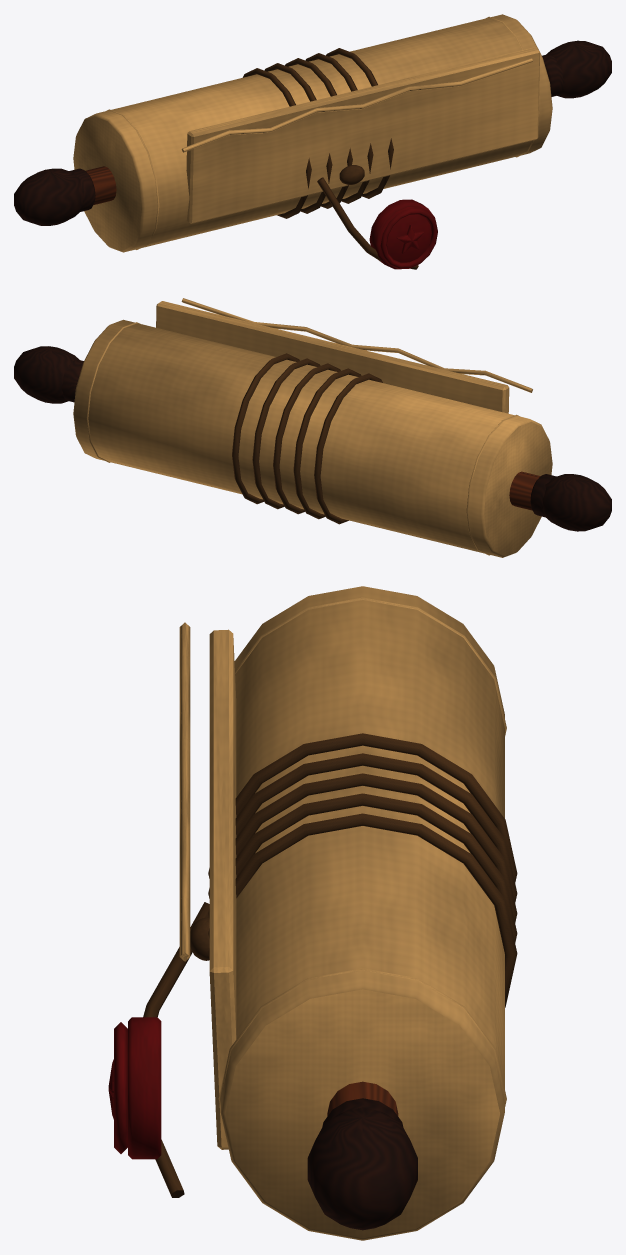
The model's file is rolled_scroll_LOD1.glb.
3 views of the same model, one above another, from view 1: azimuth 30°, elevation 25°; view 2: azimuth 150°, elevation 25°; view 3: azimuth 270°, elevation 25° (orthographic). The views are drawn at different scales.
Visible parts, largest first — view 1: Layered rolled parchment, Loose parchment edge, Ornate wooden end knob, Ornate wooden end knob.001, Raised wax seal, Irregular torn parchment edge, Wax seal rolled edge, Loose cord tails, Continuous wooden scroll rod, Tying cord wrap, Tying cord wrap.004, Tying cord wrap.003 (+6 smaller); view 2: Layered rolled parchment, Loose parchment edge, Ornate wooden end knob, Ornate wooden end knob.001, Irregular torn parchment edge, Tying cord wrap, Tying cord wrap.001, Tying cord wrap.003, Tying cord wrap.002, Tying cord wrap.004, Continuous wooden scroll rod, Turned finial neck.001 (+3 smaller); view 3: Layered rolled parchment, Loose parchment edge, Ornate wooden end knob.001, Tying cord wrap.004, Raised wax seal, Tying cord wrap.001, Tying cord wrap.003, Tying cord wrap, Tying cord wrap.002, Irregular torn parchment edge, Loose cord tails, Wax seal rolled edge (+3 smaller).
Boxes of the visible parts, <box> form: Layered rolled parchment: <box>73,14,552,252</box>; Loose parchment edge: <box>186,47,539,223</box>; Ornate wooden end knob: <box>14,168,83,225</box>; Ornate wooden end knob.001: <box>546,40,611,98</box>; Raised wax seal: <box>369,199,435,269</box>; Irregular torn parchment edge: <box>181,57,532,152</box>; Wax seal rolled edge: <box>380,208,437,269</box>; Loose cord tails: <box>317,177,418,269</box>; Continuous wooden scroll rod: <box>85,166,116,204</box>; Tying cord wrap: <box>243,68,311,218</box>; Tying cord wrap.004: <box>326,48,393,198</box>; Tying cord wrap.003: <box>305,53,373,203</box>; Layered rolled parchment: <box>73,319,552,557</box>; Loose parchment edge: <box>156,301,509,413</box>; Ornate wooden end knob: <box>542,474,611,531</box>; Ornate wooden end knob.001: <box>14,346,79,403</box>; Irregular torn parchment edge: <box>181,298,532,392</box>; Tying cord wrap: <box>314,373,382,524</box>; Tying cord wrap.001: <box>293,368,361,519</box>; Tying cord wrap.003: <box>252,358,320,509</box>; Tying cord wrap.002: <box>273,363,340,514</box>; Tying cord wrap.004: <box>232,353,299,504</box>; Continuous wooden scroll rod: <box>509,471,540,510</box>; Turned finial neck.001: <box>61,359,83,402</box>; Layered rolled parchment: <box>220,586,504,1240</box>; Loose parchment edge: <box>209,629,236,1149</box>; Ornate wooden end knob.001: <box>307,1107,417,1230</box>; Tying cord wrap.004: <box>208,813,517,1007</box>; Raised wax seal: <box>128,1017,161,1159</box>; Tying cord wrap.001: <box>208,753,517,902</box>; Tying cord wrap.003: <box>208,793,517,942</box>; Tying cord wrap: <box>208,733,517,882</box>; Tying cord wrap.002: <box>208,773,517,922</box>; Irregular torn parchment edge: <box>179,622,190,961</box>; Loose cord tails: <box>143,902,209,1197</box>; Wax seal rolled edge: <box>114,1022,127,1153</box>.
Bounding box in the file's own units: 0.5782 × 0.1728 × 0.1724.
5 materials, 5 textured.
